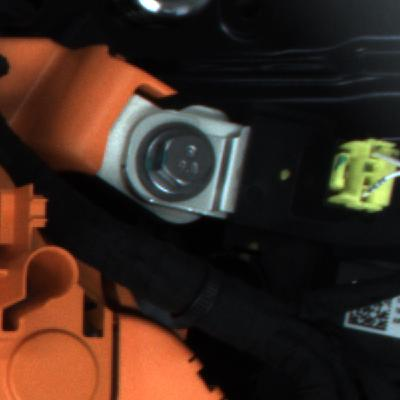nut_b: (136, 120, 219, 205)
